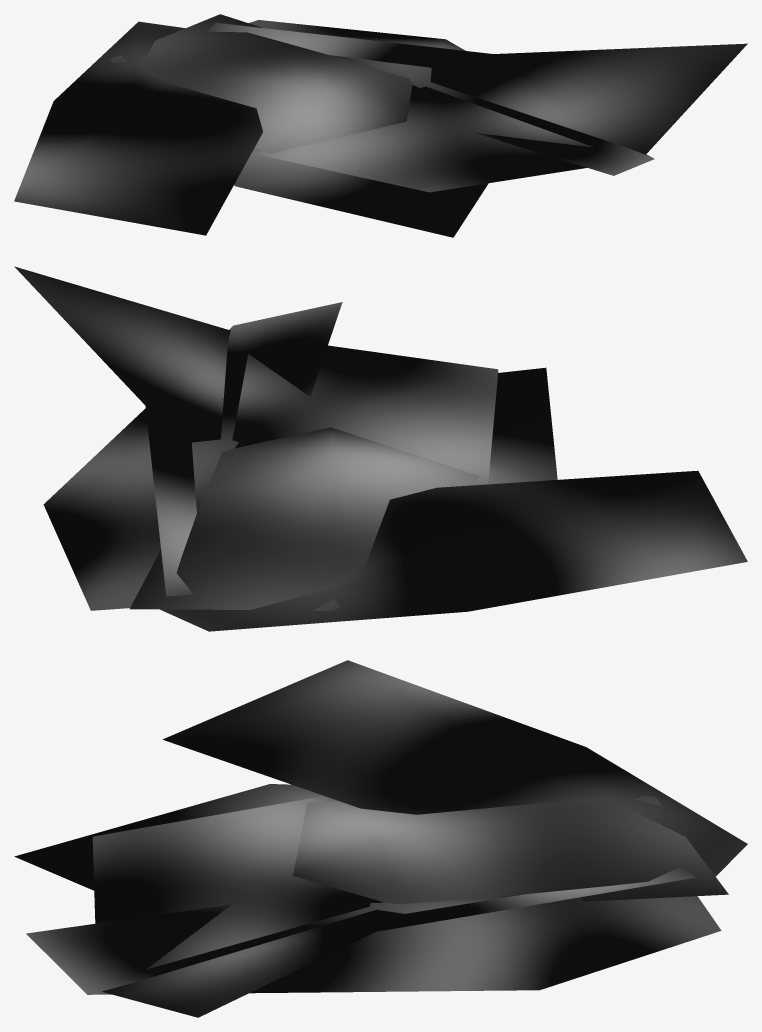
The model's file is SM_Ivy_Plane_041.fbx.
The picture shows the model from 3 angles, top to bottom: view 1: azimuth 30°, elevation 25°; view 2: azimuth 150°, elevation 25°; view 3: azimuth 270°, elevation 25°; orthographic projection. The views are drawn at different scales.
Visible parts, largest first — view 1: SM_Ivy_Plane_041; view 2: SM_Ivy_Plane_041; view 3: SM_Ivy_Plane_041.
Boxes of the visible parts, <box> form: SM_Ivy_Plane_041: <box>14,14,747,237</box>; SM_Ivy_Plane_041: <box>14,266,747,631</box>; SM_Ivy_Plane_041: <box>14,660,747,1017</box>.
Bounding box in the file's own units: 114 × 87.78 × 10.45.
1 material, 1 textured.
